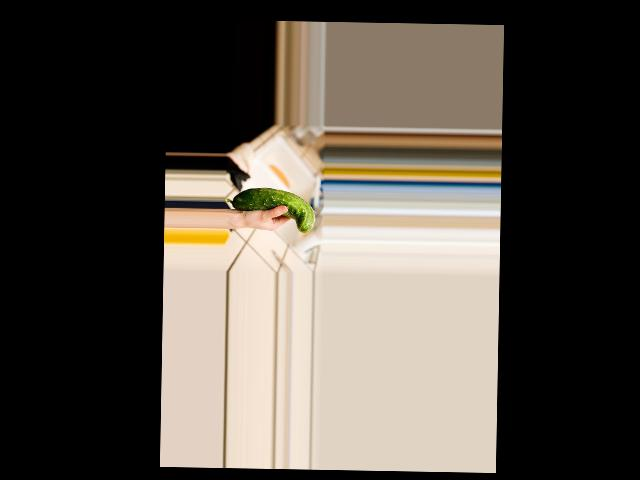cucumber: (225, 186, 315, 232)
